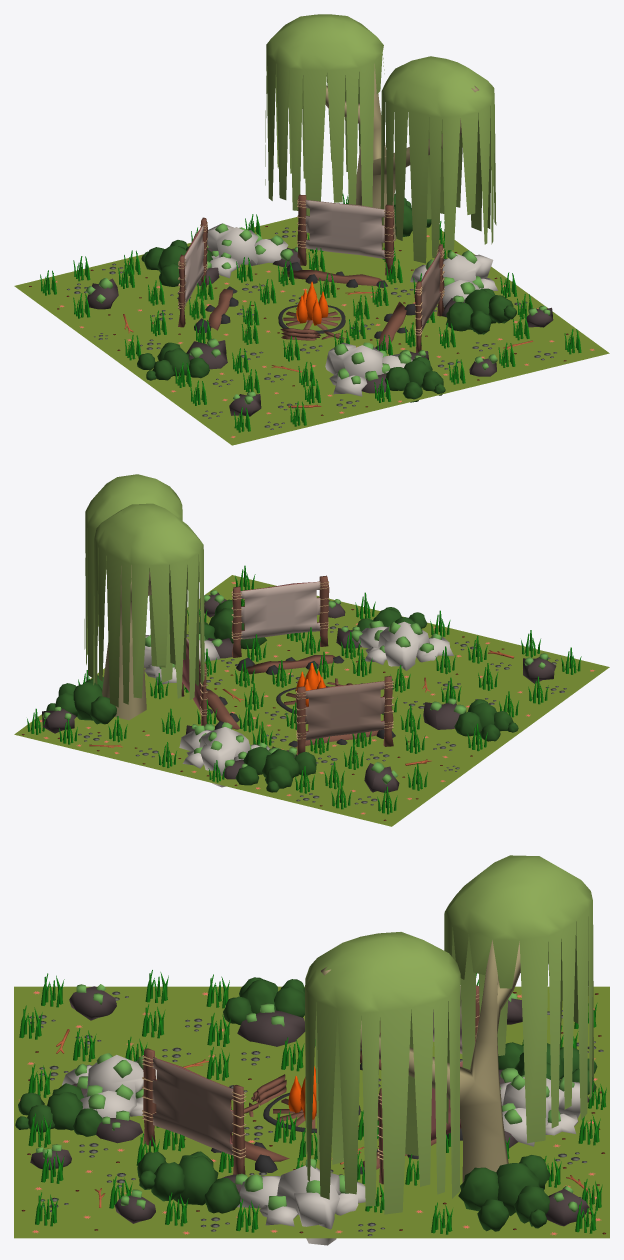
Rendered from grassland_communal_fire_pit.glb.
The picture shows the model from 3 angles, top to bottom: view 1: azimuth 30°, elevation 25°; view 2: azimuth 150°, elevation 25°; view 3: azimuth 270°, elevation 25°; orthographic projection. The views are drawn at different scales.
Parts seen in each view (by area): view 1: FlatGrass_Tile0.5x0.5; view 2: FlatGrass_Tile0.5x0.5; view 3: FlatGrass_Tile0.5x0.5.
Part boxes in pixels (box(x1,y1,x2,y2)): FlatGrass_Tile0.5x0.5: box(14, 14, 609, 445); FlatGrass_Tile0.5x0.5: box(14, 474, 609, 826); FlatGrass_Tile0.5x0.5: box(14, 855, 609, 1245).
Bounding box in the file's own units: 2.05 × 1.24 × 2.
